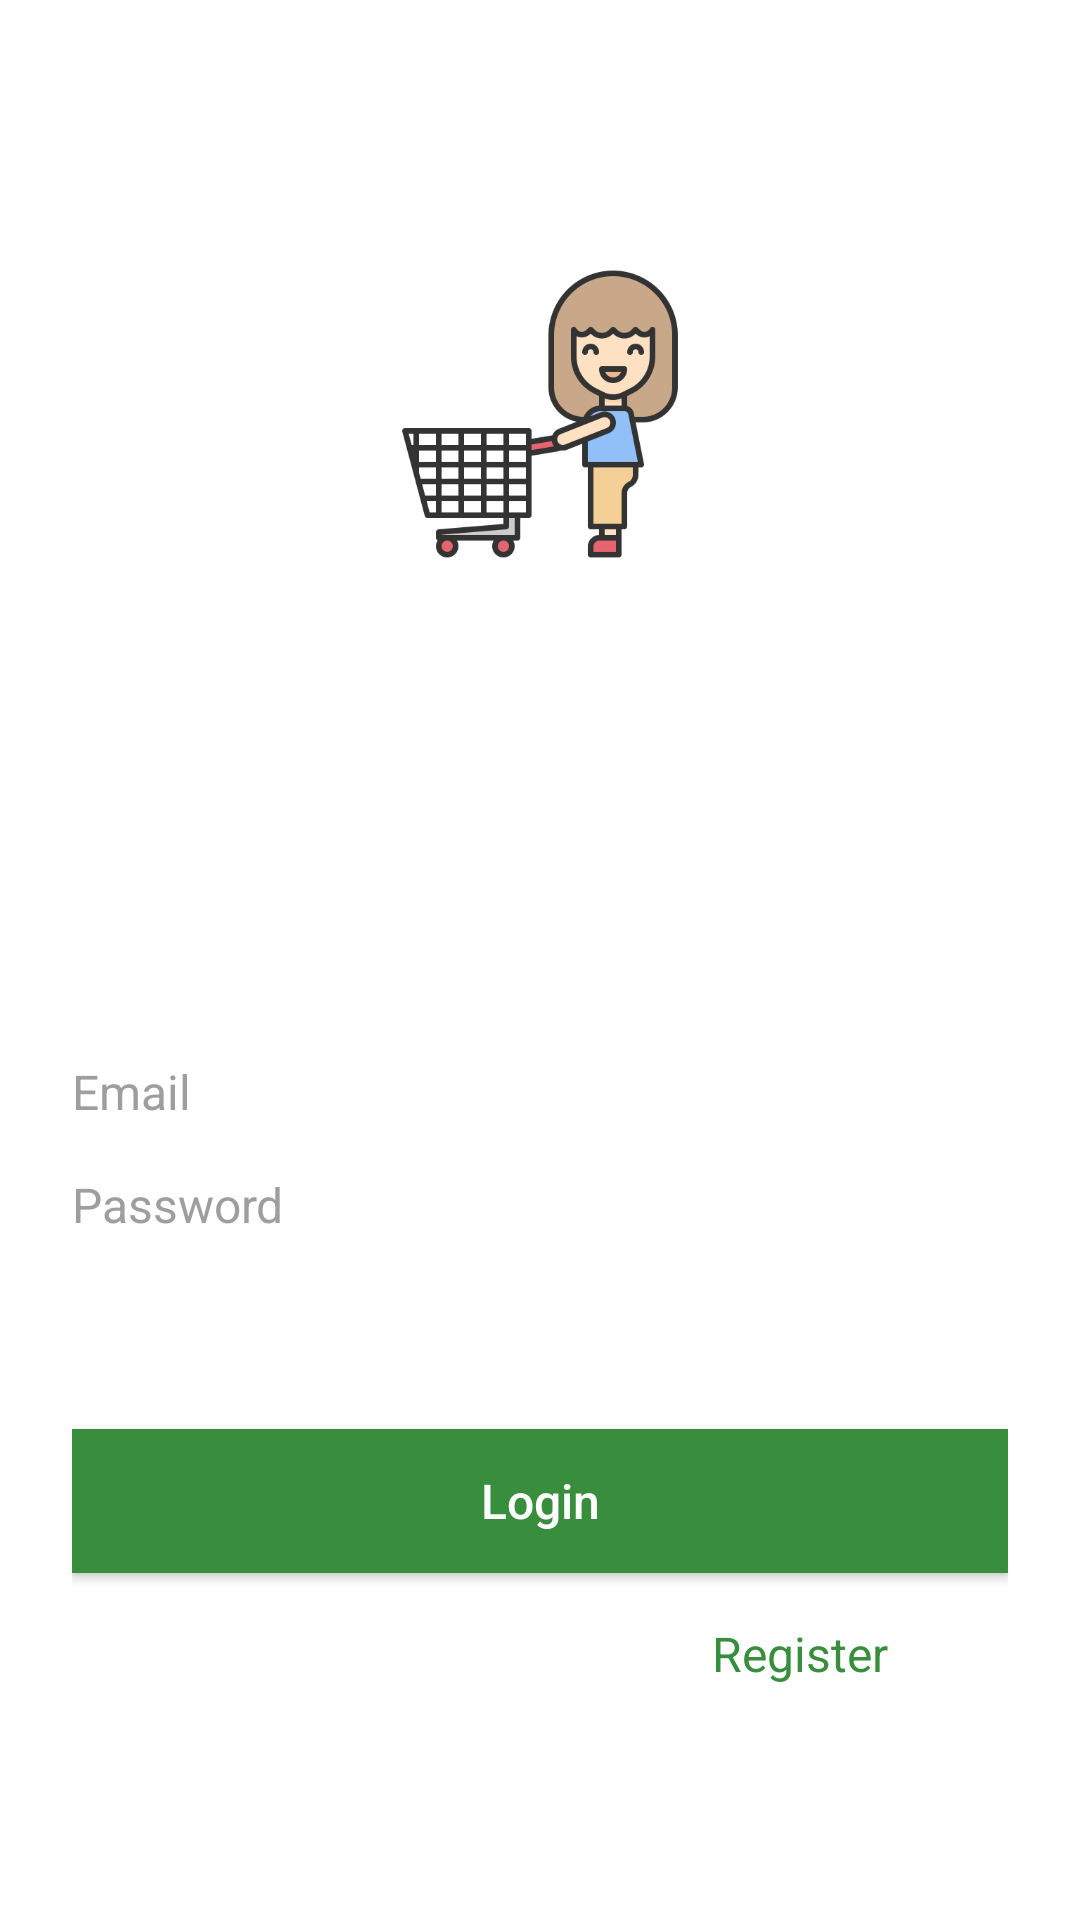

Point at icon controls on the screen. Image size 1080px x 1920px, points as (x=x, y=y).
customer: (x=540, y=414)
